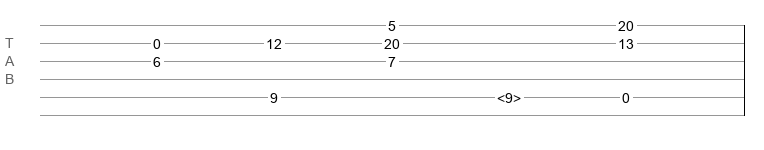0: (153, 36, 161, 46), (622, 90, 630, 100)
12: (266, 36, 282, 46)
13: (618, 36, 634, 46)
20: (384, 36, 400, 46), (618, 18, 634, 28)
5: (388, 18, 396, 28)
6: (153, 54, 161, 64)
7: (388, 54, 396, 64)
9: (270, 90, 278, 100)
harmonic: (497, 90, 521, 100)
